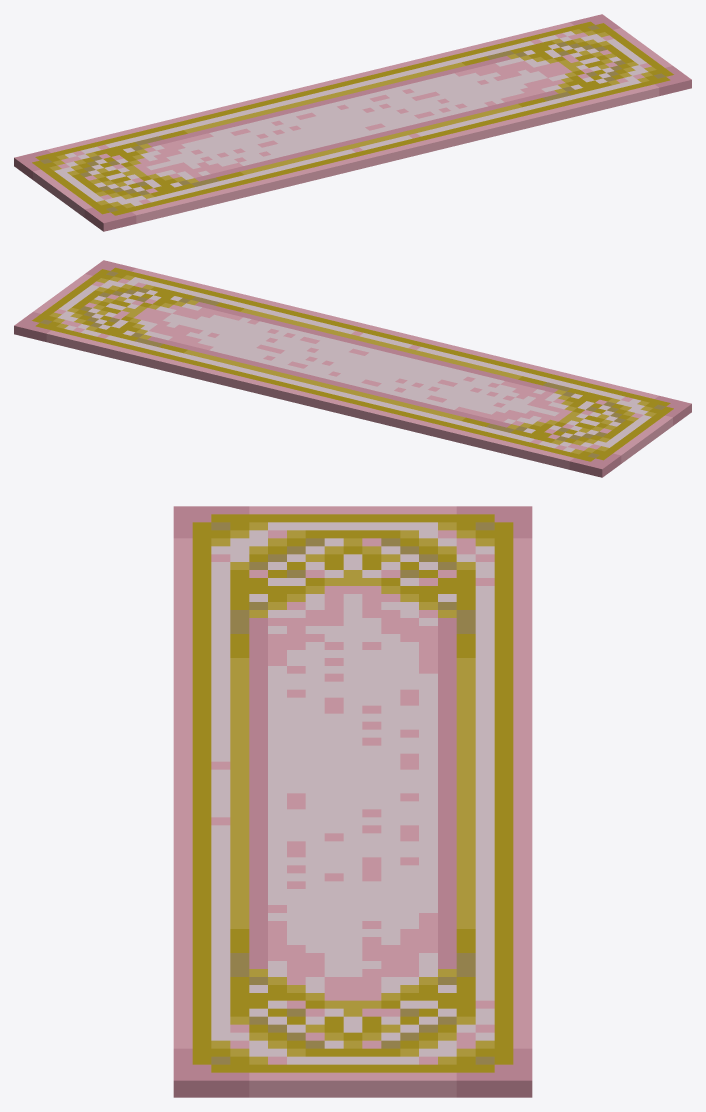
The picture shows the model from 3 angles, top to bottom: view 1: azimuth 30°, elevation 25°; view 2: azimuth 150°, elevation 25°; view 3: azimuth 270°, elevation 25°; orthographic projection. The views are drawn at different scales.
Size of the model in its own units: 1 by 0.0139 by 0.2639.
